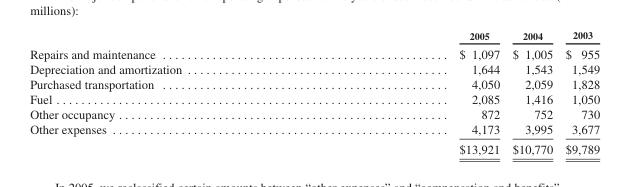table: (29, 29, 599, 156)
table column: (29, 29, 319, 156), (319, 29, 505, 156), (505, 29, 558, 156), (558, 29, 599, 156)
table column header: (29, 29, 599, 43)
table row: (29, 43, 599, 61), (29, 121, 599, 139), (29, 139, 599, 156), (29, 61, 599, 76), (29, 76, 599, 91), (29, 91, 599, 106), (29, 106, 599, 121), (29, 29, 599, 43)
